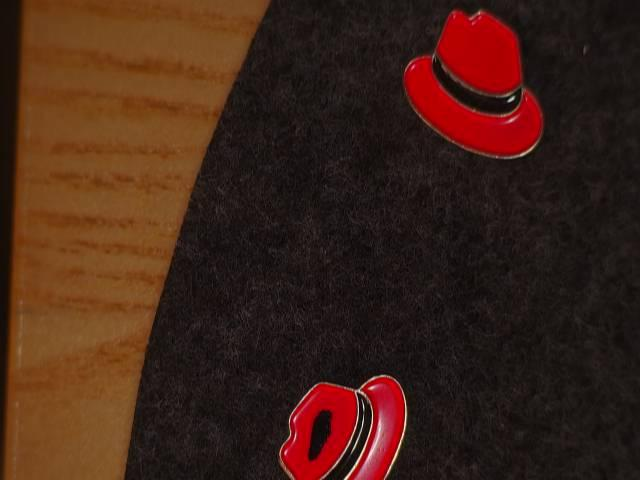Red-Hat: (390, 0, 558, 182), (247, 362, 420, 480)
Scratch: (296, 403, 343, 466)
